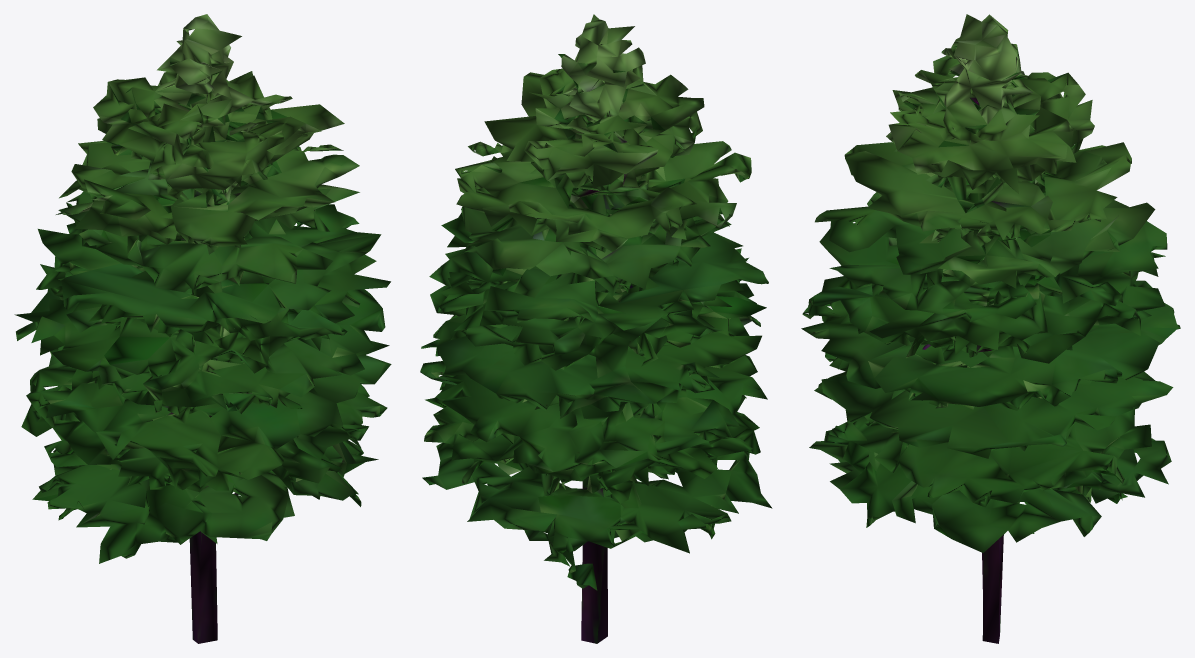
File: spruce_tree.glb
3 views of the same model, side by side, from view 1: azimuth 30°, elevation 25°; view 2: azimuth 150°, elevation 25°; view 3: azimuth 270°, elevation 25° (orthographic).
Parts seen in each view (by area): view 1: tmpev8ss9qy.ply; view 2: tmpev8ss9qy.ply; view 3: tmpev8ss9qy.ply.
Part boxes in pixels (x1,y1,x2,y2): tmpev8ss9qy.ply: (14,14,391,643); tmpev8ss9qy.ply: (420,14,772,643); tmpev8ss9qy.ply: (801,14,1180,643).
Size of the model in its own units: 1.06 by 1.97 by 1.09.
1 material, 1 textured.
